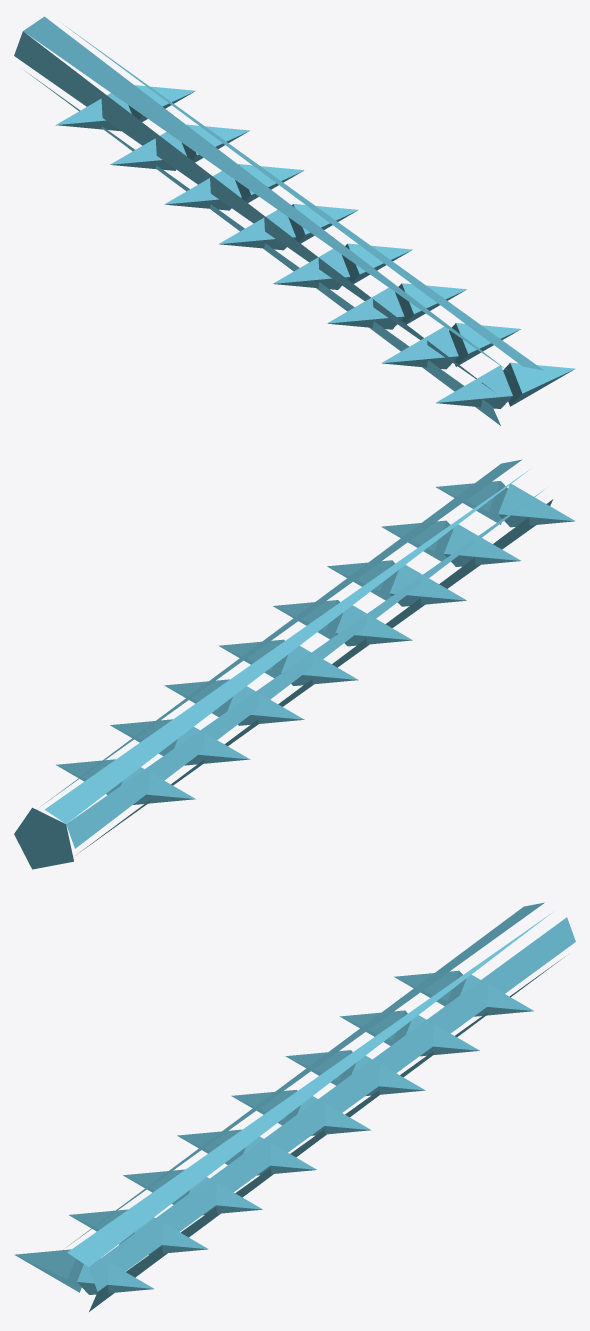
File: blade-serrated.lod.glb
The picture shows the model from 3 angles, top to bottom: view 1: azimuth 30°, elevation 25°; view 2: azimuth 150°, elevation 25°; view 3: azimuth 330°, elevation 25°; orthographic projection.
Visible parts, largest first — view 1: m; view 2: m; view 3: m.
Part boxes in pixels (x1=…): m: x1=14, y1=16, x2=575, y2=425; m: x1=14, y1=459, x2=575, y2=869; m: x1=14, y1=902, x2=575, y2=1311.
Bounding box in the file's own units: 0.03 × 0.013 × 0.1764.
